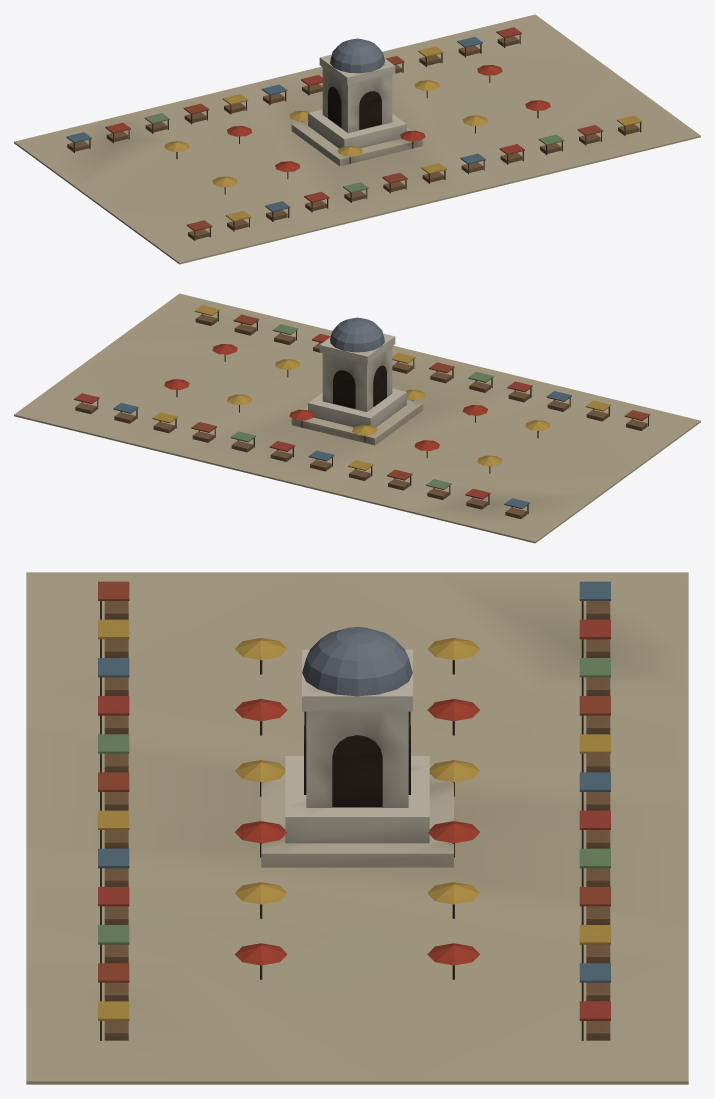
The model's file is innocents-1789.glb.
The picture shows the model from 3 angles, top to bottom: view 1: azimuth 30°, elevation 25°; view 2: azimuth 150°, elevation 25°; view 3: azimuth 270°, elevation 25°; orthographic projection. The views are drawn at different scales.
Parts seen in each view (by area): view 1: p0_ground, p2_market, p1_fountain; view 2: p0_ground, p2_market, p1_fountain; view 3: p0_ground, p2_market, p1_fountain.
Part boxes in pixels (x1,y1,x2,y2): p0_ground: (14,14,700,264); p2_market: (66,27,642,240); p1_fountain: (291,38,423,166); p0_ground: (14,293,700,543); p2_market: (74,305,650,518); p1_fountain: (291,317,423,445); p0_ground: (26,572,688,1084); p2_market: (98,581,610,1040); p1_fountain: (261,627,453,867).
Size of the model in its own units: 100 by 18.12 by 55.
